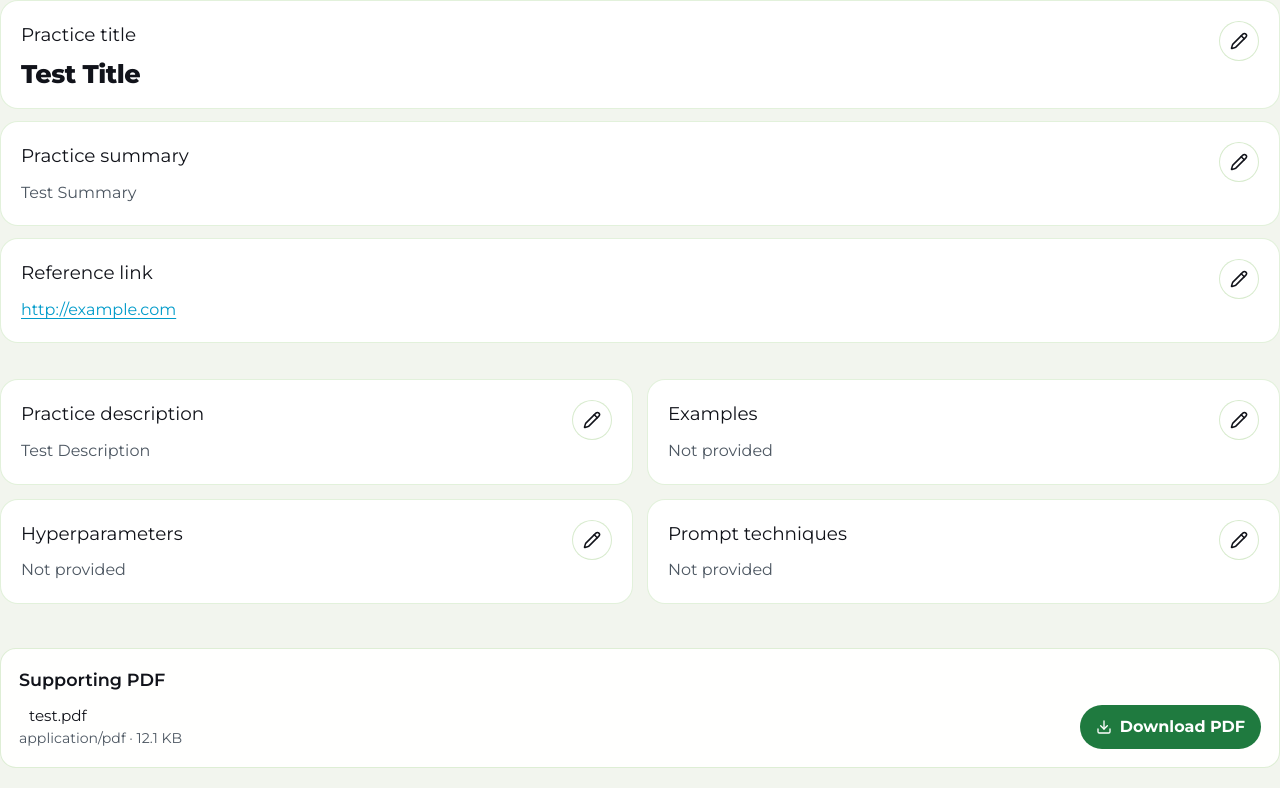
Test case: RequestDetailsClient › should cancel editing
Click the button named "Edit". click: (1239, 41)
box: left=1219, top=21, right=1259, bottom=61
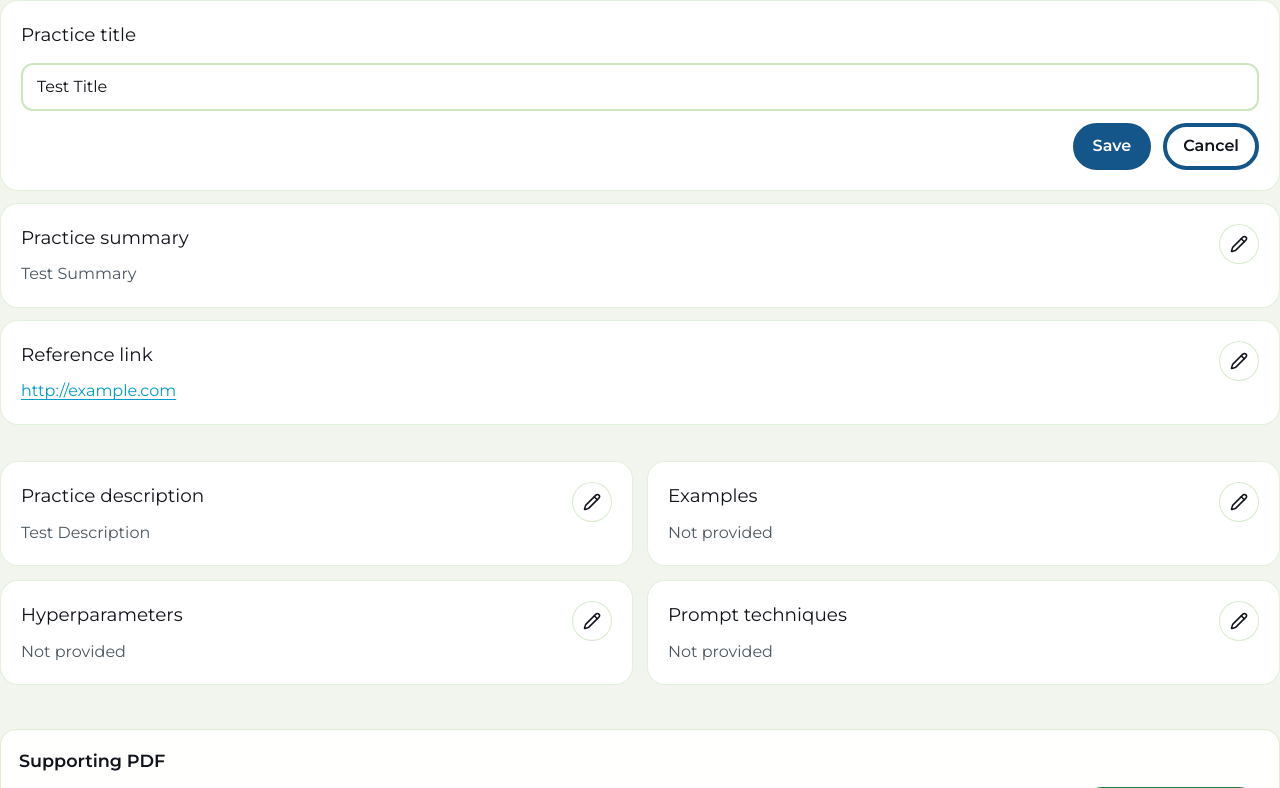
Check: the field named "Practice title" is shown, box left=21, top=63, right=1259, bottom=111
Click the button "Cancel". click: (1211, 146)
box: left=1163, top=123, right=1259, bottom=170
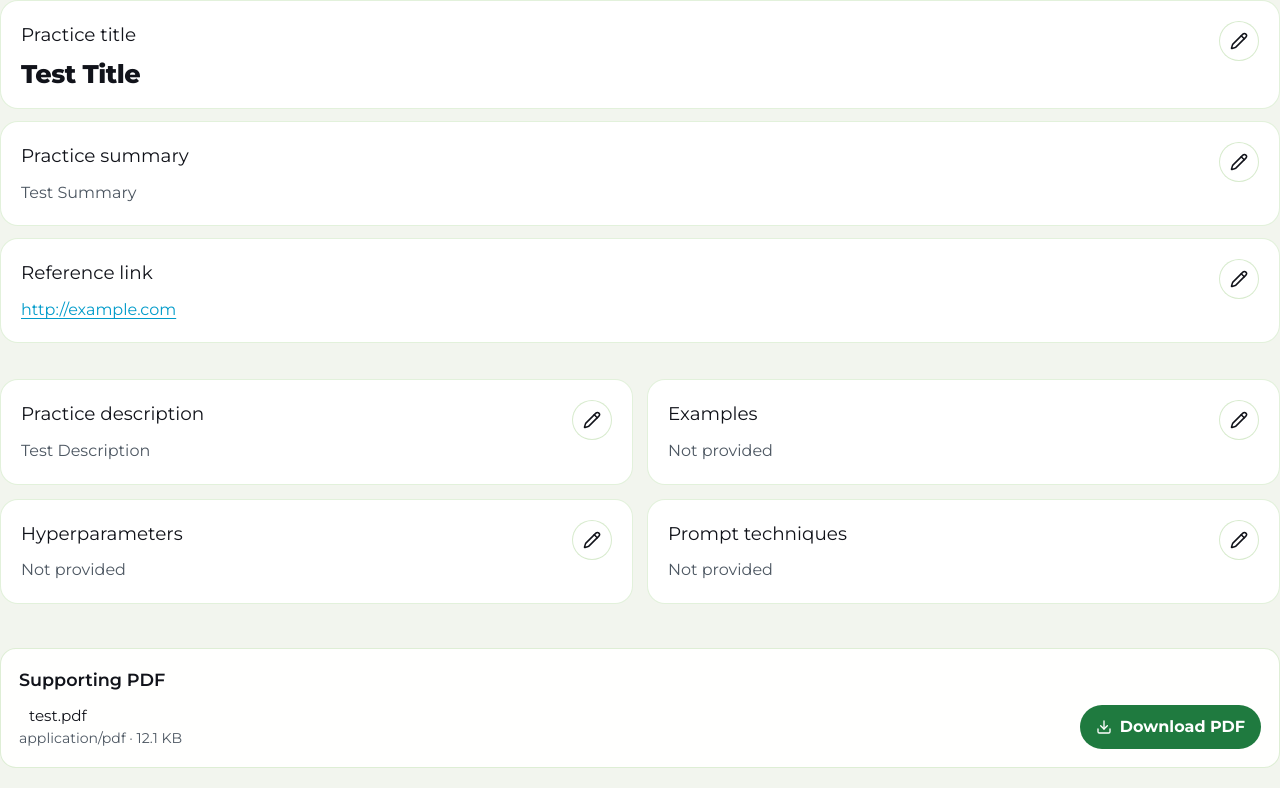
Check: the text "Test Title" is shown, box left=21, top=58, right=140, bottom=89
